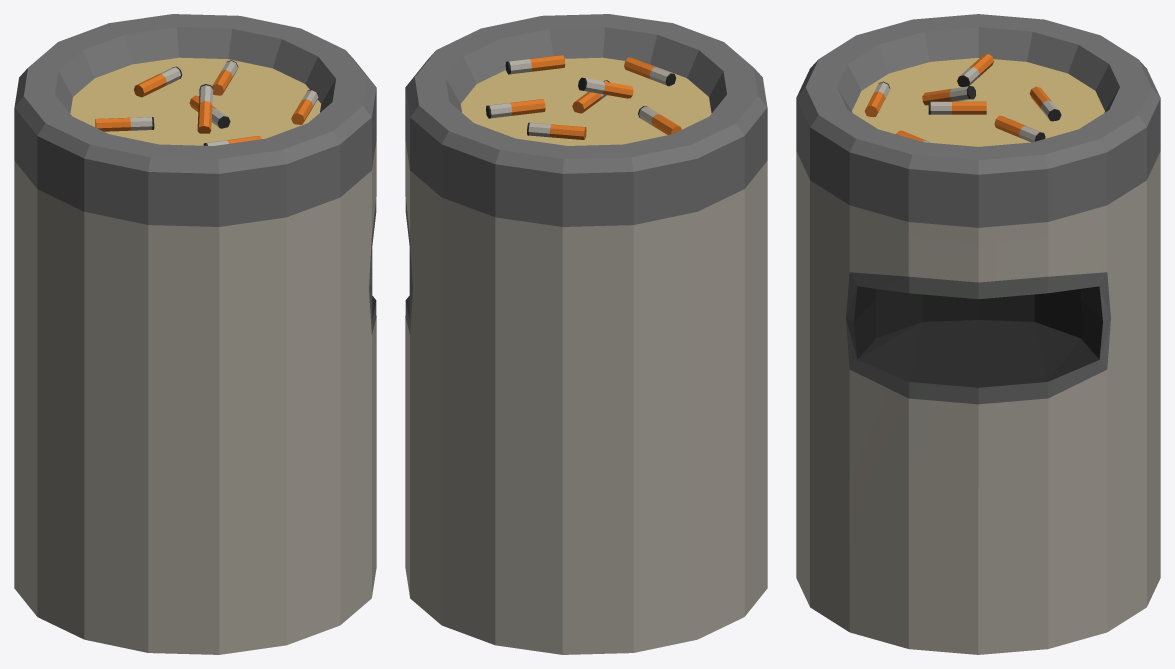
The model's file is SM_trash_bin_4.gltf.
The picture shows the model from 3 angles, left to right: view 1: azimuth 30°, elevation 25°; view 2: azimuth 150°, elevation 25°; view 3: azimuth 270°, elevation 25°; orthographic projection.
Visible parts, largest first — view 1: SM_trash_bin_4; view 2: SM_trash_bin_4; view 3: SM_trash_bin_4.
Part boxes in pixels (bbox=[...]): SM_trash_bin_4: bbox=[14, 14, 376, 654]; SM_trash_bin_4: bbox=[405, 14, 767, 654]; SM_trash_bin_4: bbox=[796, 14, 1160, 654].
Bounding box in the file's own units: 0.5543 × 0.8304 × 0.554.
1 material, 1 textured.
